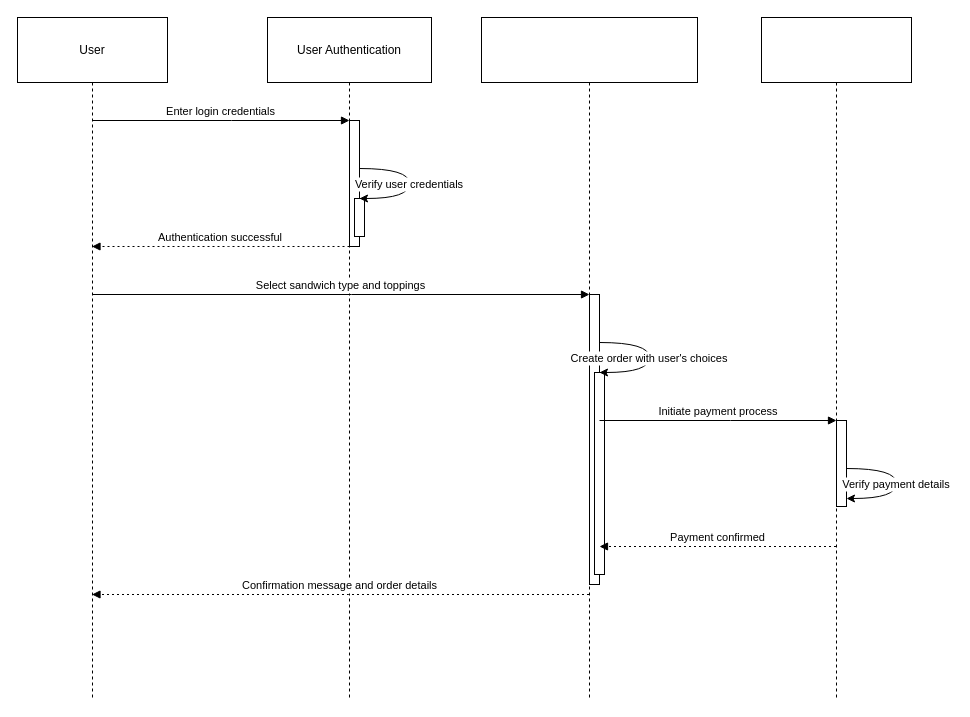
The diagram is 970 pixels wide and 717 high, and some of its shapes have lost their labels. Each missing label, with the box of its shape:
Online Ordering App: (480, 16, 698, 700)
Payment Gateway: (760, 16, 912, 700)
